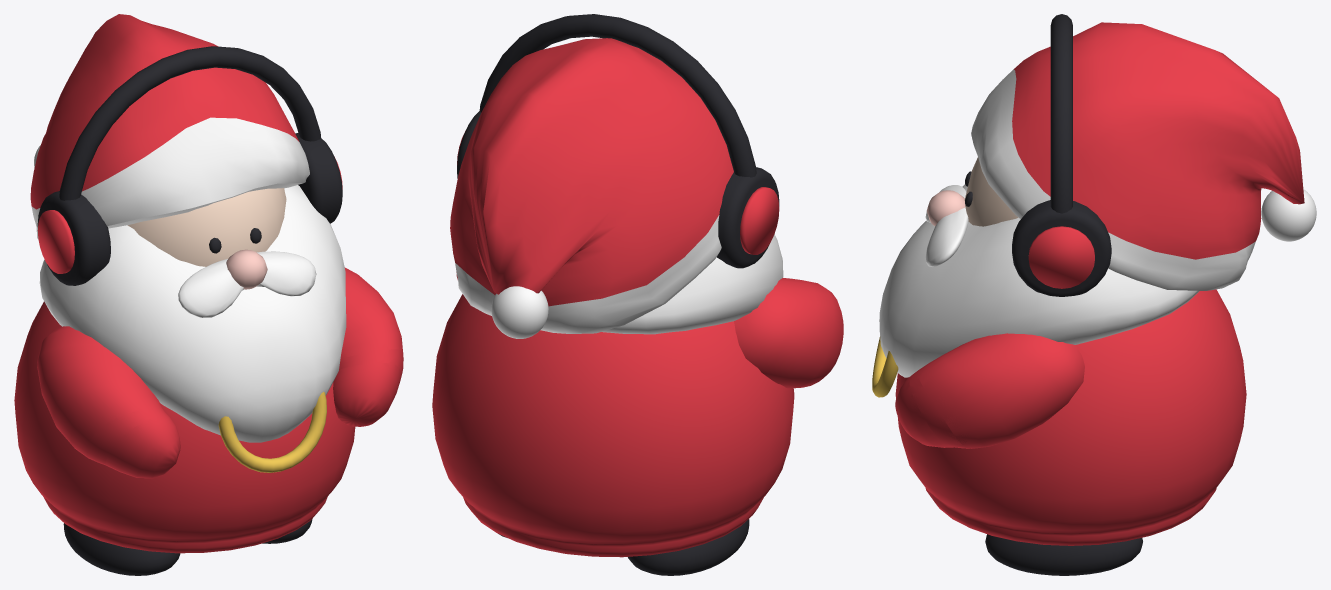
3 views of the same model, side by side, from view 1: azimuth 30°, elevation 25°; view 2: azimuth 150°, elevation 25°; view 3: azimuth 270°, elevation 25° (orthographic). The views are drawn at different scales.
Visible parts, largest first — view 1: dj_red, dj_white, dj_black, dj_skin, dj_gold, dj_nose; view 2: dj_red, dj_white, dj_black; view 3: dj_red, dj_white, dj_black, dj_skin, dj_gold, dj_nose.
Boxes of the visible parts, box(x1,y1,x2,y2) form: dj_red: box(14, 14, 403, 553); dj_white: box(31, 117, 346, 442); dj_black: box(37, 46, 342, 575); dj_skin: box(127, 188, 286, 266); dj_gold: box(218, 392, 326, 472); dj_nose: box(226, 249, 267, 289); dj_red: box(432, 38, 843, 557); dj_white: box(455, 215, 783, 338); dj_black: box(457, 14, 779, 575); dj_red: box(895, 22, 1304, 545); dj_white: box(879, 69, 1316, 377); dj_black: box(965, 14, 1142, 575); dj_skin: box(964, 157, 1018, 226); dj_gold: box(872, 336, 898, 397); dj_nose: box(926, 190, 965, 225).
Bounding box in the file's own units: 2.14 × 2.99 × 2.41.
